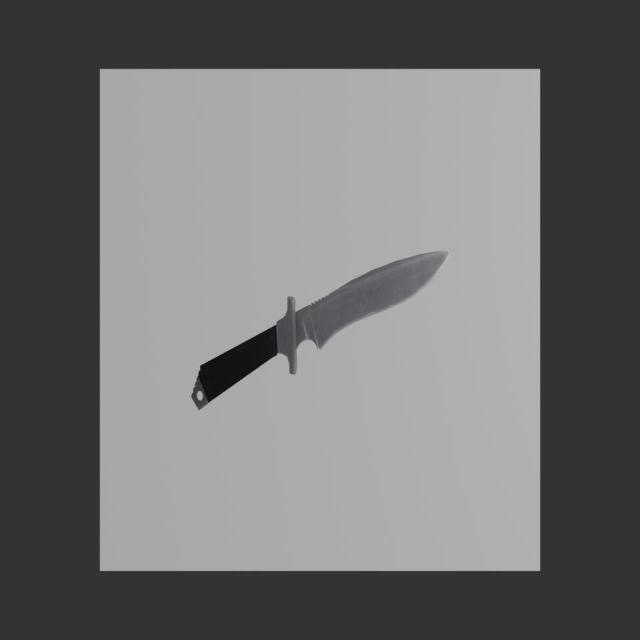knife: (191, 325, 278, 410)
